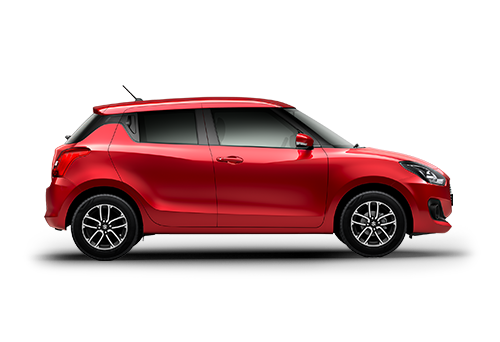car: (29, 77, 492, 278)
